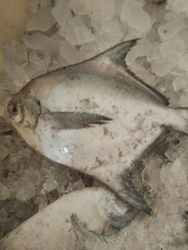Pomfret: (6, 35, 185, 210)
